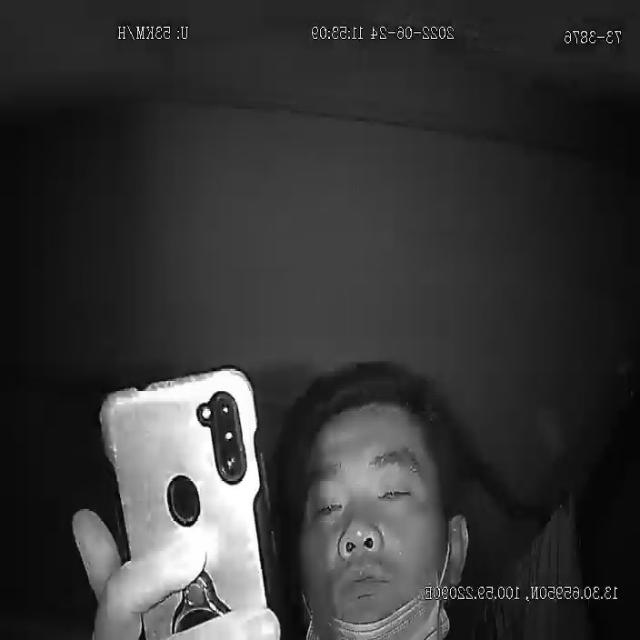phone: (98, 364, 267, 640)
